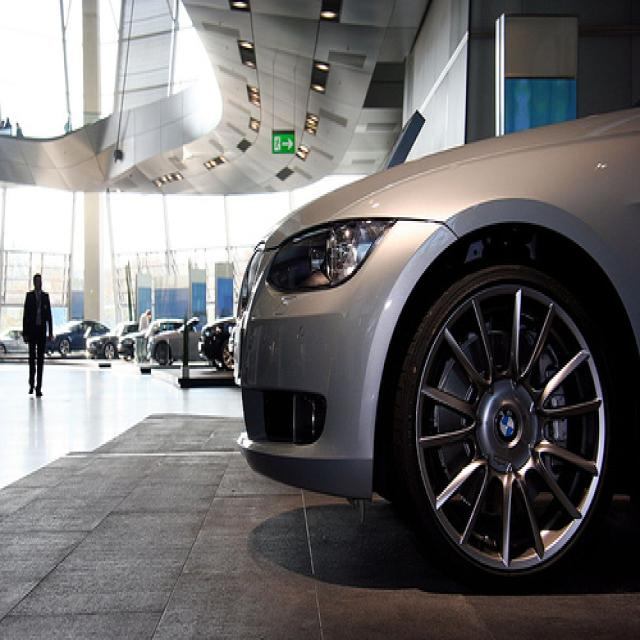light_vehicle: (233, 102, 639, 588), (116, 316, 200, 362), (42, 317, 112, 360), (147, 315, 201, 363), (84, 321, 141, 363), (198, 313, 237, 371), (0, 318, 29, 361)
